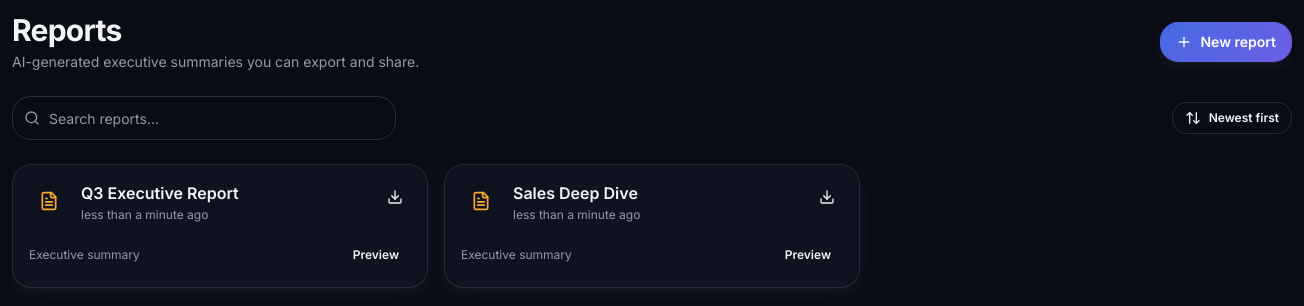
Scenario: ReportsPage workflow › filters reports by search
The width and height of the screenshot is (1304, 306).
Expected: the text "Q3 Executive Report" is shown, [81,183,239,203]
Type "sales" into the field with placeholder "Search reports…" at (204, 118), box [12,96,396,140]
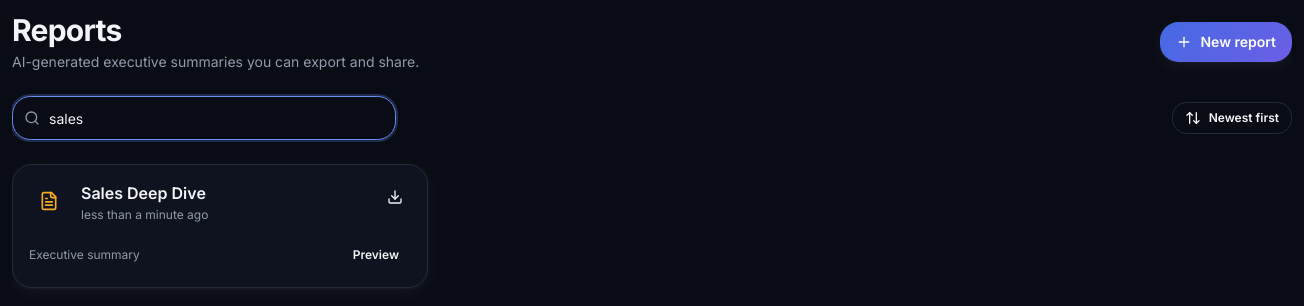
Expected: the text "Sales Deep Dive" is shown, [81,183,206,203]
Result: the button "Q3 Executive Report" is gone
